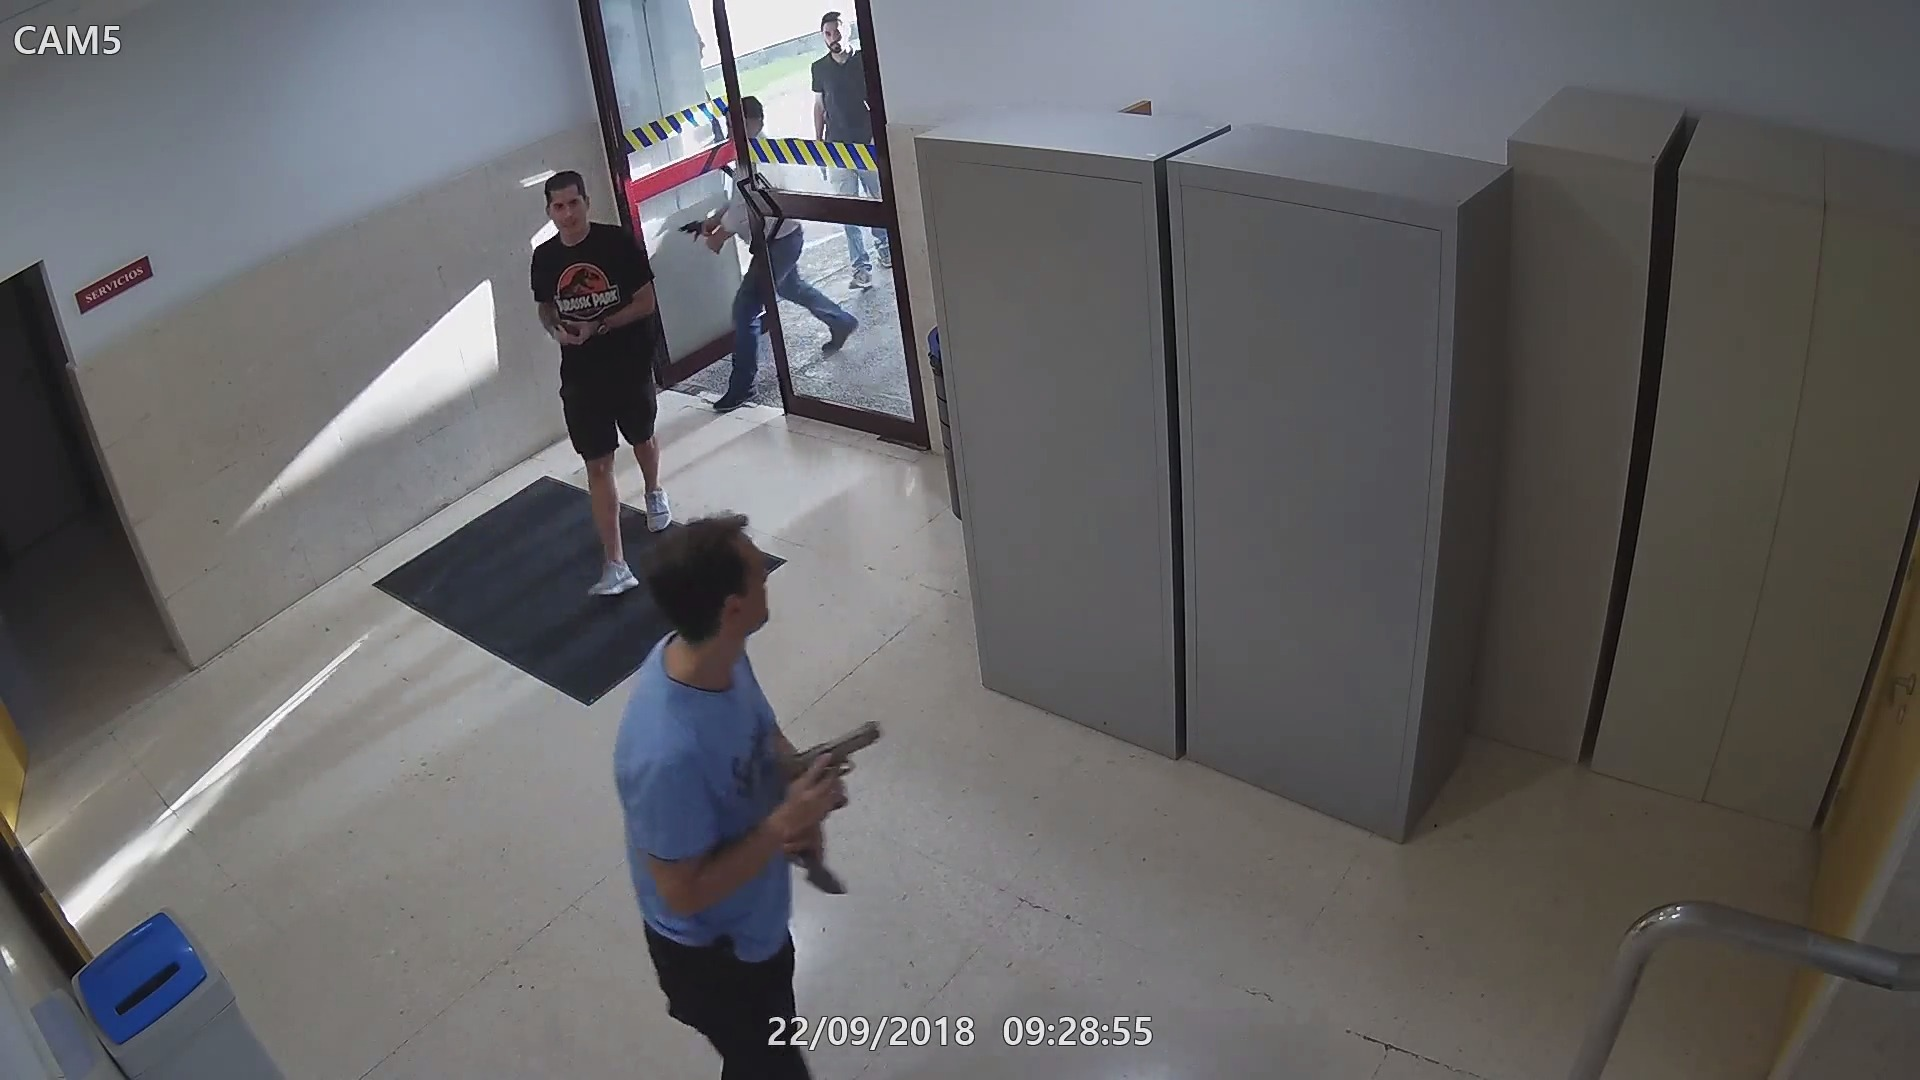Handgun: (781, 716, 889, 827), (542, 309, 589, 345), (674, 214, 719, 240)
Knife: (777, 815, 847, 897)
